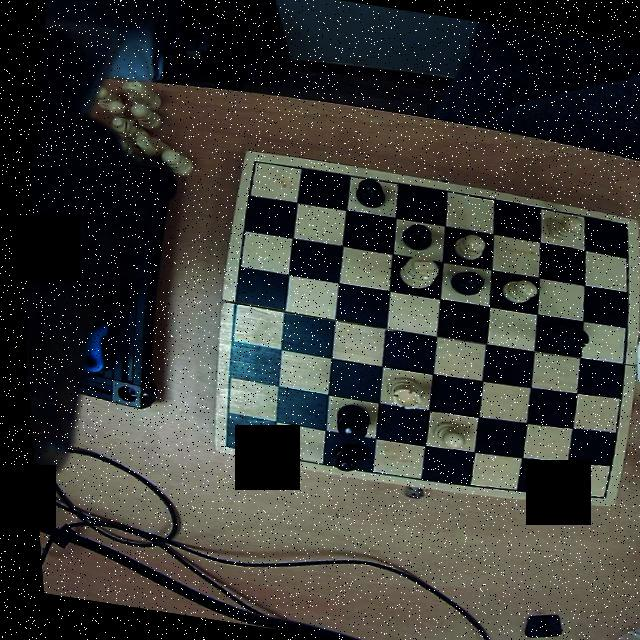chess-table-corners: (208, 430, 238, 454), (239, 152, 265, 176), (605, 215, 636, 234), (584, 482, 610, 503)
